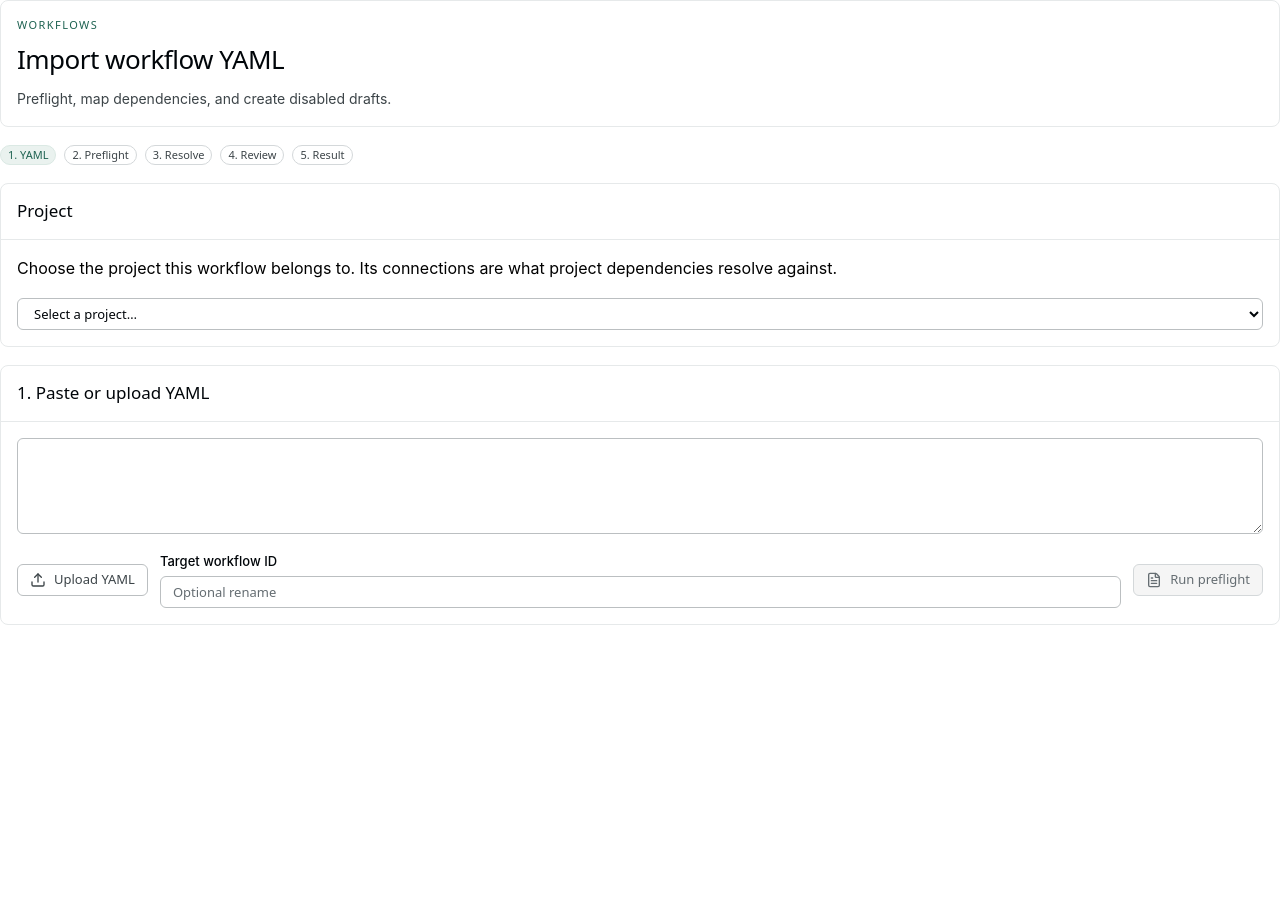
WorkflowsImportPage › shows an Apply-time server collision refusal without inventing a result
In the text box named "Workflow bundle YAML": (640, 486) 17,438 -> 1263,534, type "bundle"
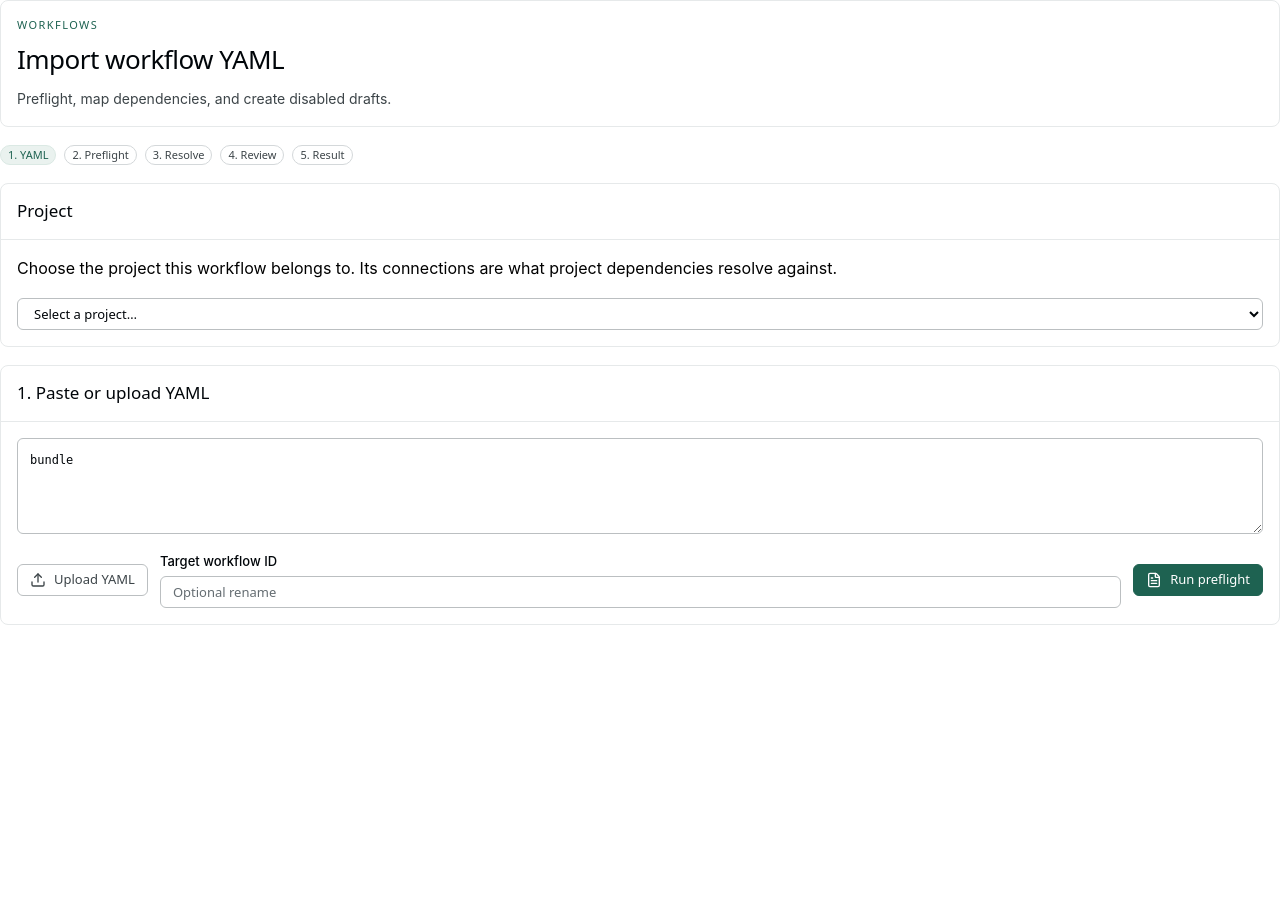
Click the button "Run preflight": (1198, 580) 1133,564 -> 1263,596
(page scrolled)
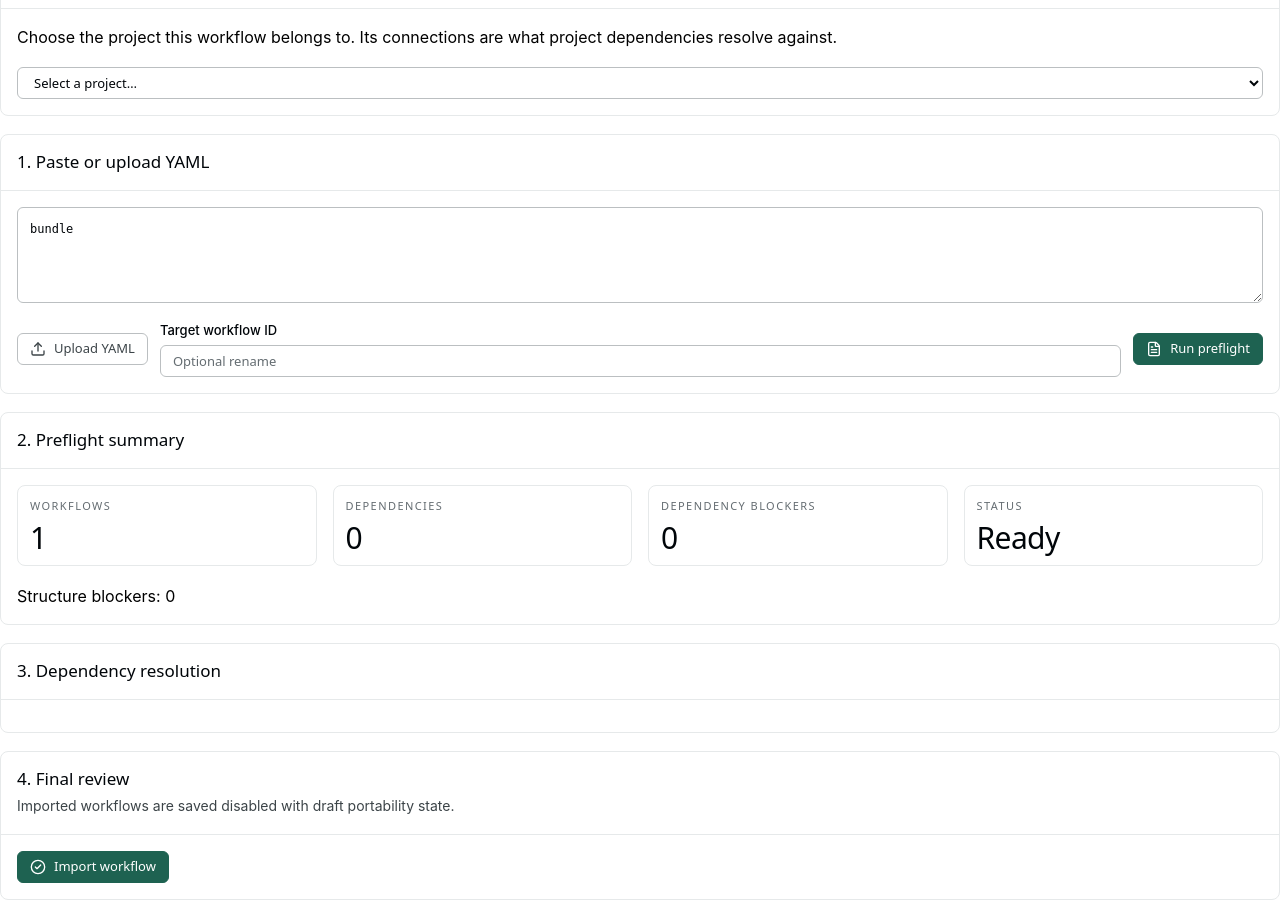
Check: the button "Import workflow" is enabled
Click the button "Import workflow": (93, 867) 17,851 -> 169,883
(page scrolled)
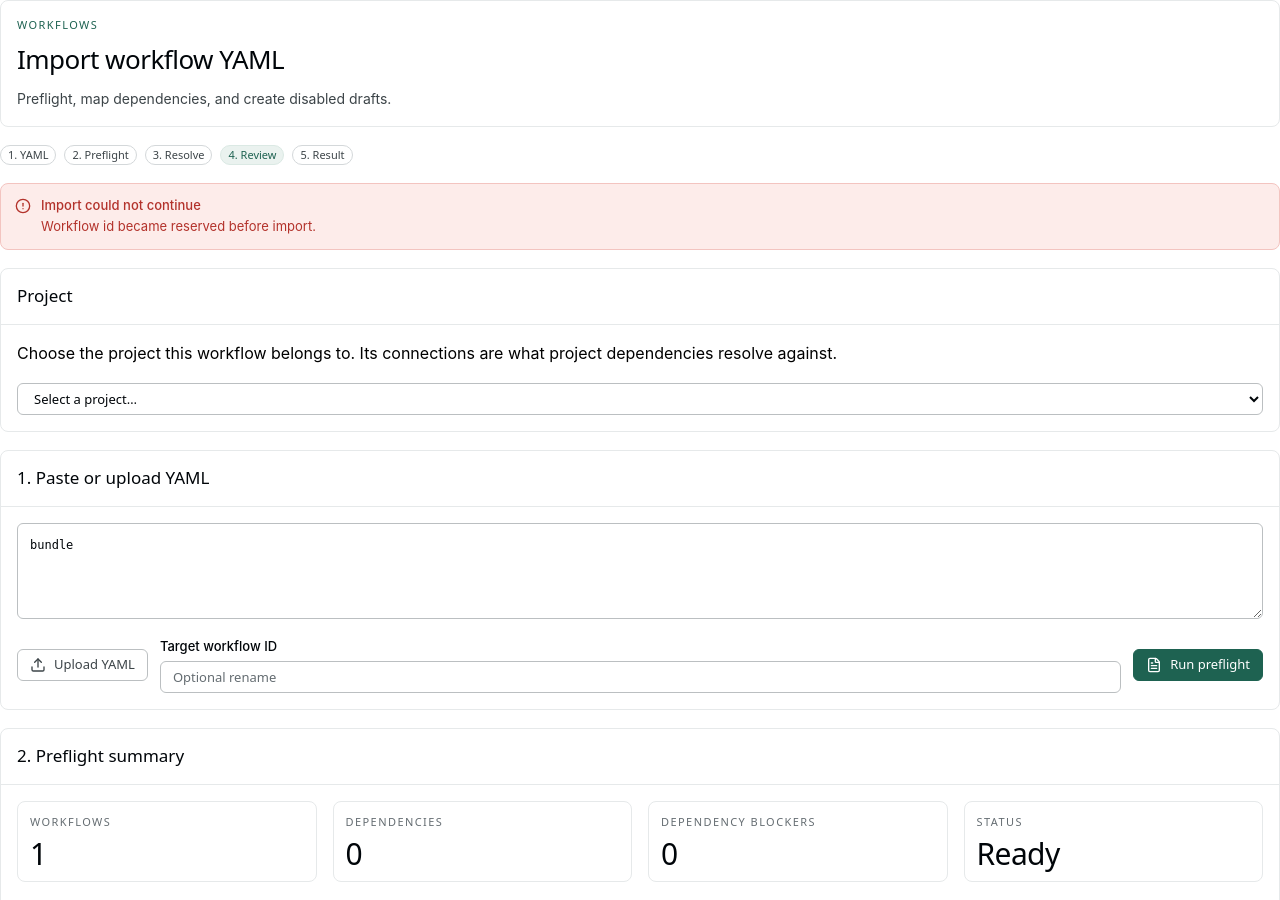
Check: the text "Workflow id became reserved before import." is shown, box 41,218 -> 316,234
